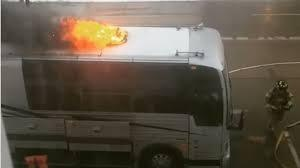fire: (57, 13, 129, 55)
